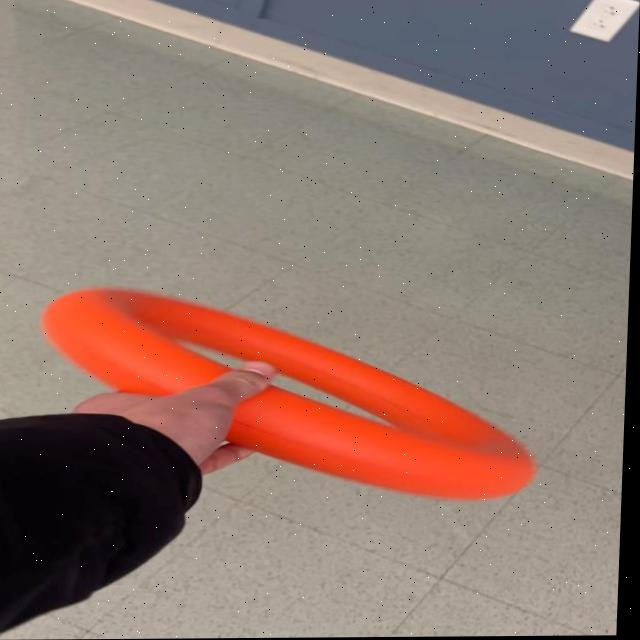note: (37, 281, 550, 506)
